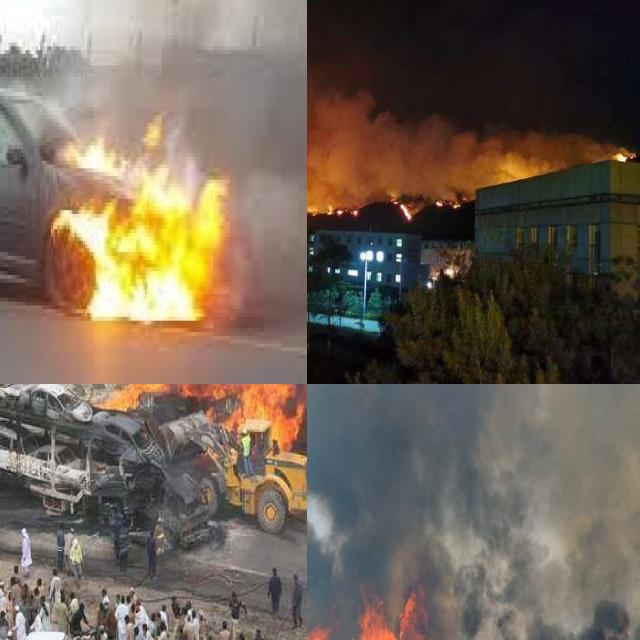fire: (45, 122, 236, 348), (97, 384, 307, 518), (307, 589, 640, 640)
smoke: (307, 384, 640, 640), (307, 57, 626, 225), (61, 0, 225, 176), (226, 0, 307, 313)
